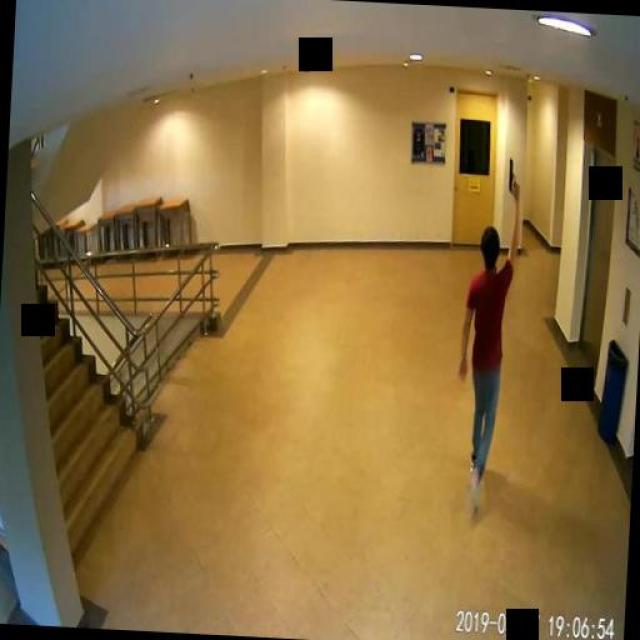gun: (507, 155, 522, 195)
